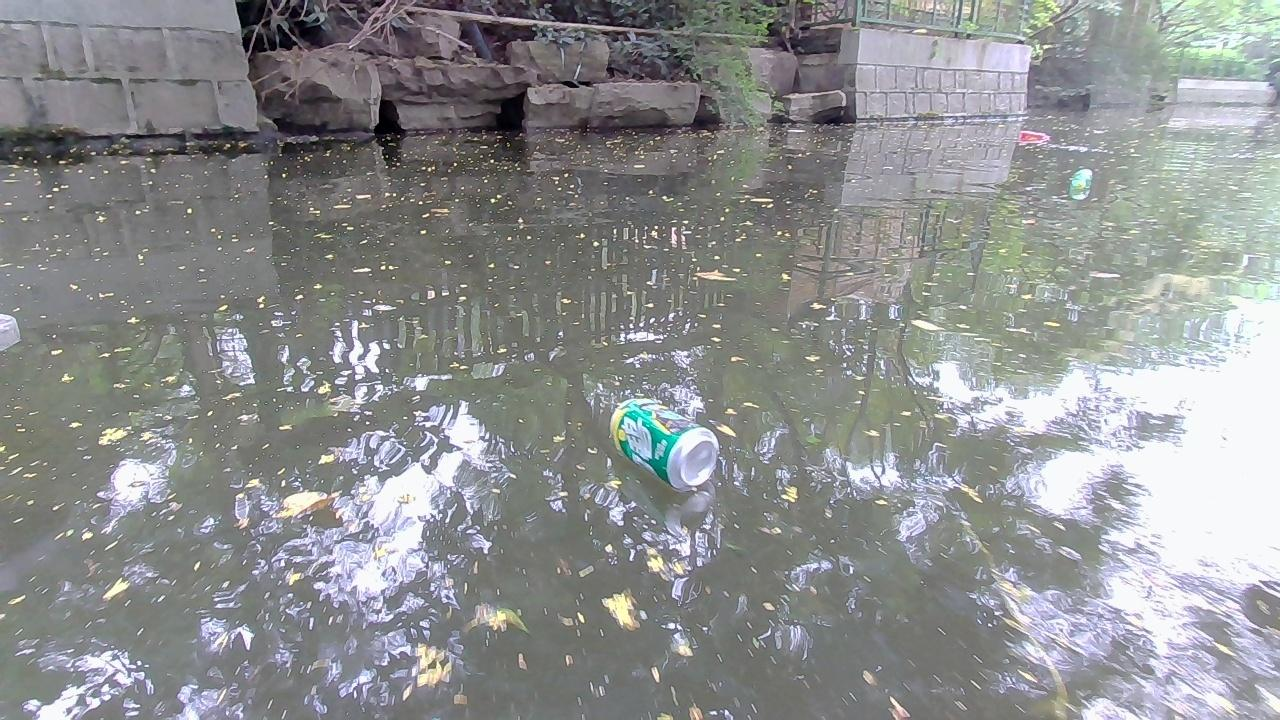bottle: (607, 395, 722, 488), (1015, 127, 1051, 141), (1068, 168, 1091, 189)
